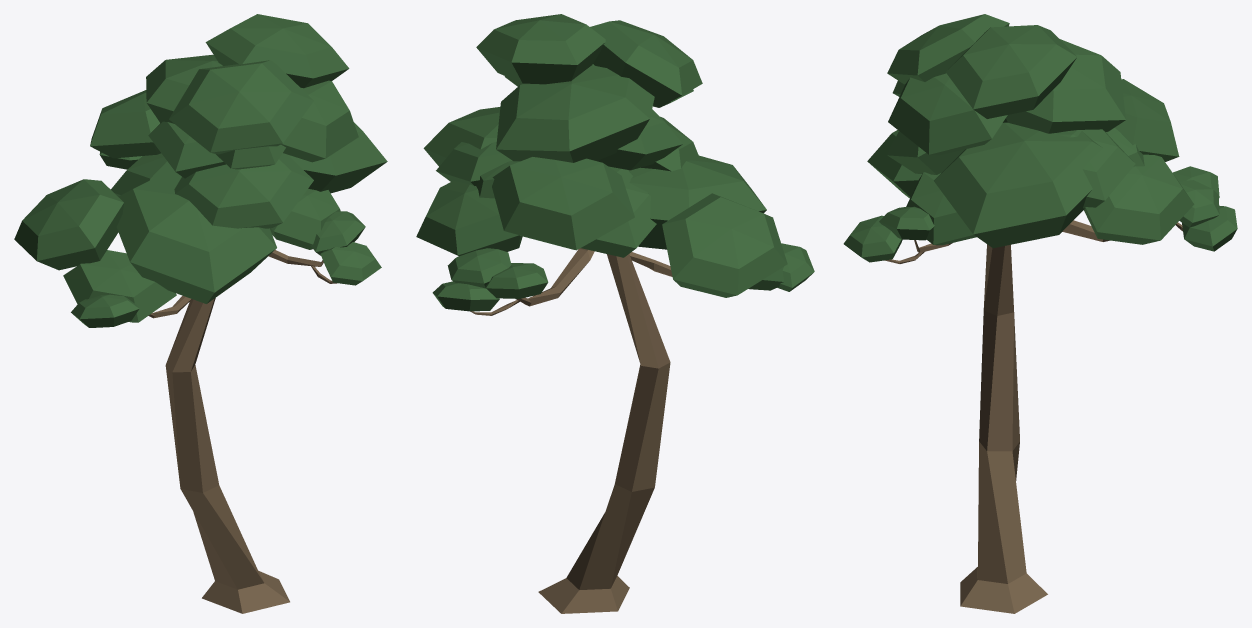
Rendered from SmallTree.fbx.
The picture shows the model from 3 angles, left to right: view 1: azimuth 30°, elevation 25°; view 2: azimuth 150°, elevation 25°; view 3: azimuth 270°, elevation 25°; orthographic projection. The views are drawn at different scales.
Visible parts, largest first — view 1: node_id23.001, AliveTree; view 2: node_id23.001, AliveTree; view 3: node_id23.001, AliveTree.
Part boxes in pixels (<box>): node_id23.001: <box>14,14,387,327</box>; AliveTree: <box>148,250,336,613</box>; node_id23.001: <box>416,14,814,311</box>; AliveTree: <box>470,248,672,613</box>; node_id23.001: <box>843,14,1237,262</box>; AliveTree: <box>884,220,1182,613</box>.
Size of the model in its own units: 121 by 194 by 121.
